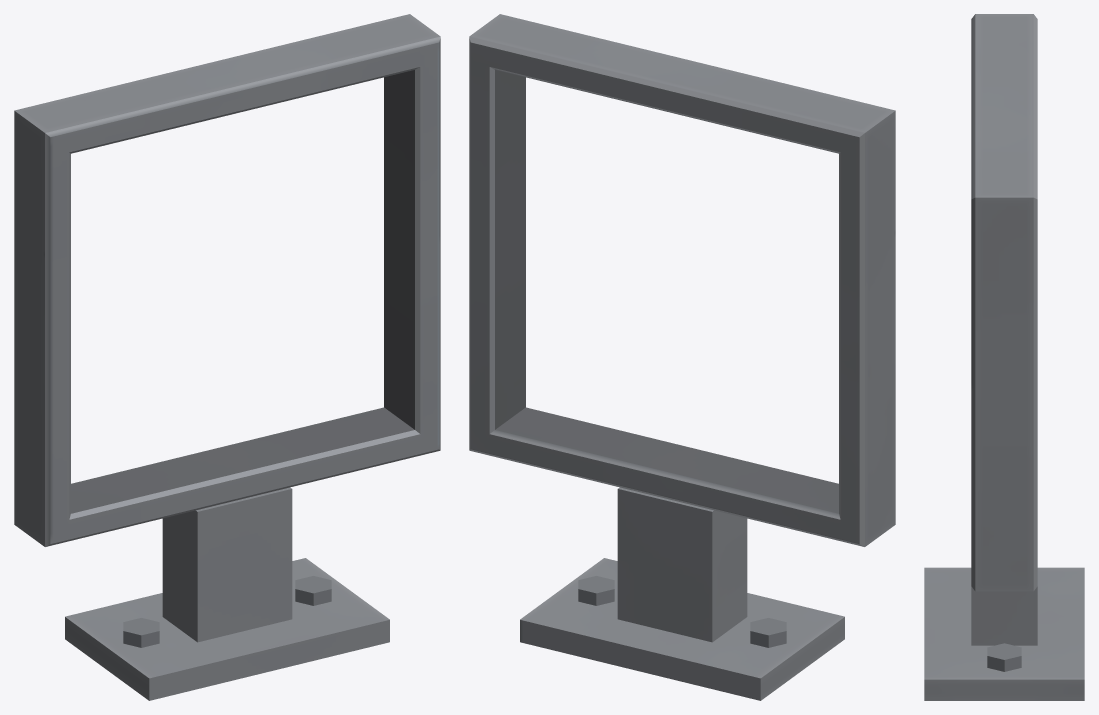
File: clamp_z_down.obj
The picture shows the model from 3 angles, left to right: view 1: azimuth 30°, elevation 25°; view 2: azimuth 150°, elevation 25°; view 3: azimuth 270°, elevation 25°; orthographic projection. The views are drawn at different scales.
Parts seen in each view (by area): view 1: clamp_strap, clamp_foot, clamp_leg, clamp_screws; view 2: clamp_strap, clamp_foot, clamp_leg, clamp_screws; view 3: clamp_strap, clamp_foot, clamp_leg, clamp_screws.
Part boxes in pixels (bbox=[...]): clamp_strap: bbox=[14, 14, 440, 546]; clamp_foot: bbox=[65, 558, 389, 700]; clamp_leg: bbox=[162, 487, 292, 642]; clamp_screws: bbox=[123, 576, 331, 647]; clamp_strap: bbox=[469, 14, 895, 546]; clamp_foot: bbox=[520, 558, 844, 700]; clamp_leg: bbox=[617, 487, 747, 642]; clamp_screws: bbox=[578, 576, 786, 647]; clamp_strap: bbox=[971, 14, 1037, 591]; clamp_foot: bbox=[924, 567, 1084, 700]; clamp_leg: bbox=[971, 586, 1037, 645]; clamp_screws: bbox=[987, 643, 1021, 671].
Bounding box in the file's own units: 0.575 × 0.7875 × 0.2125.
